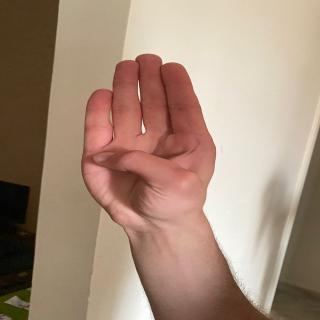KAAF: (75, 45, 213, 206)
